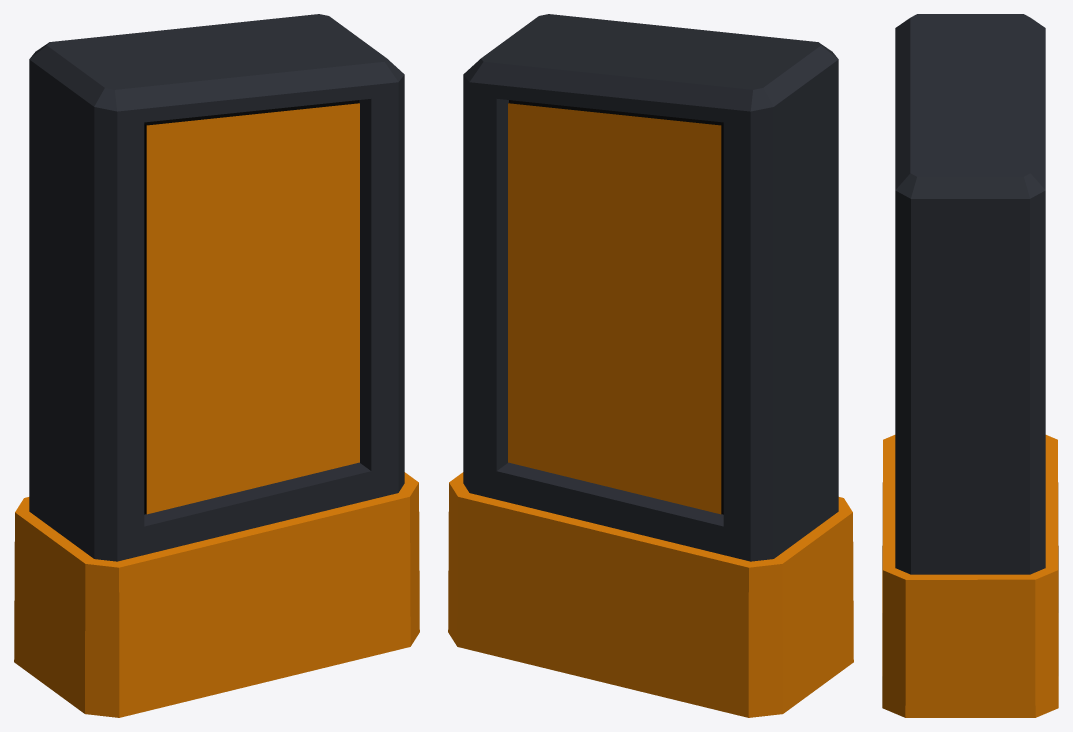
Rendered from SM_WeaponMagazine.fbx.
The picture shows the model from 3 angles, left to right: view 1: azimuth 30°, elevation 25°; view 2: azimuth 150°, elevation 25°; view 3: azimuth 270°, elevation 25°; orthographic projection. The views are drawn at different scales.
Visible parts, largest first — view 1: SM_WeaponMagazine; view 2: SM_WeaponMagazine; view 3: SM_WeaponMagazine.
Boxes of the visible parts, x1,y1,x2,y2 form: SM_WeaponMagazine: (14, 14, 419, 717); SM_WeaponMagazine: (448, 14, 853, 717); SM_WeaponMagazine: (882, 14, 1058, 717).
Size of the model in its own units: 11.91 by 20.89 by 5.9.
